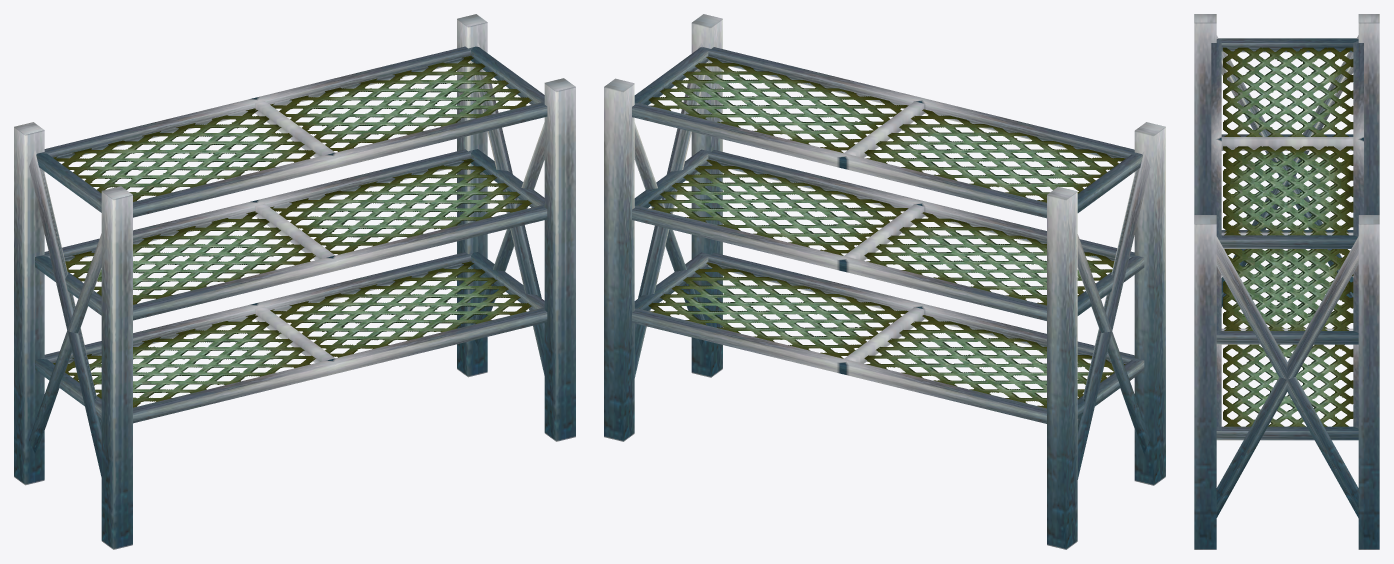
File: a-rack-1.glb
3 renders of one model, left to right at view 1: azimuth 30°, elevation 25°; view 2: azimuth 150°, elevation 25°; view 3: azimuth 270°, elevation 25°, orthographic. The views are drawn at different scales.
Parts seen in each view (by area): view 1: a_rack_1; view 2: a_rack_1; view 3: a_rack_1.
Part boxes in pixels (<box>): a_rack_1: <box>14,14,575,549</box>; a_rack_1: <box>604,14,1165,549</box>; a_rack_1: <box>1194,14,1379,549</box>.
Bounding box in the file's own units: 381 × 276 × 142.
Materials: 2 (2 with a texture image).
